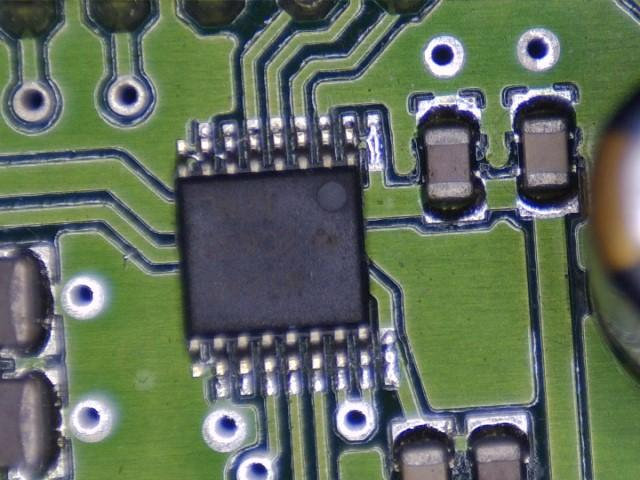Incorrect_installation: (176, 111, 402, 400)
